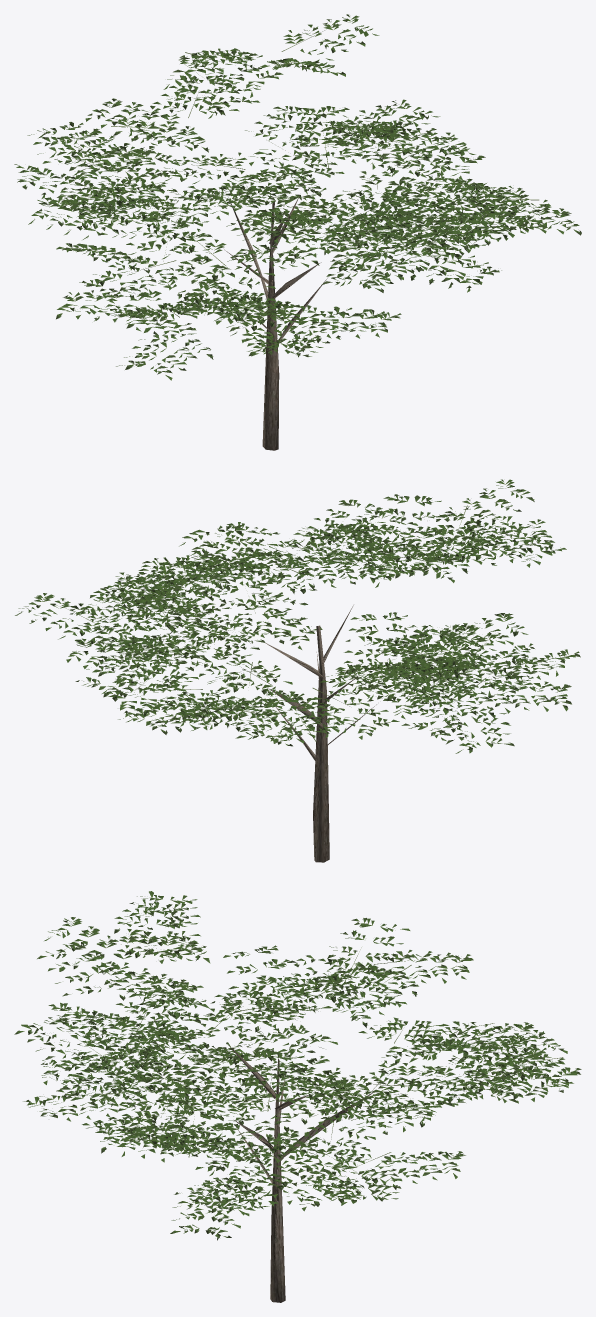
File: koelreuteria-2-lite.glb
3 views of the same model, one above another, from view 1: azimuth 30°, elevation 25°; view 2: azimuth 150°, elevation 25°; view 3: azimuth 270°, elevation 25° (orthographic). The views are drawn at different scales.
Parts seen in each view (by area): view 1: leaf, leaf-edge, bark, rachis; view 2: leaf, leaf-edge, bark, rachis; view 3: leaf, leaf-edge, bark, rachis.
Part boxes in pixels (box(x1,y1,x2,y2)): leaf: box(14, 14, 580, 380); leaf-edge: box(17, 14, 581, 374); bark: box(224, 195, 327, 450); rachis: box(64, 30, 538, 320); leaf: box(15, 479, 579, 753); leaf-edge: box(17, 485, 580, 751); bark: box(265, 605, 376, 862); rachis: box(66, 505, 483, 741); leaf: box(17, 891, 580, 1237); leaf-edge: box(14, 895, 581, 1240); bark: box(228, 1045, 372, 1302); rachis: box(74, 942, 563, 1188).
Bounding box in the file's own units: 2.23 × 1.46 × 2.28.
Materials: 4 (3 with a texture image).
